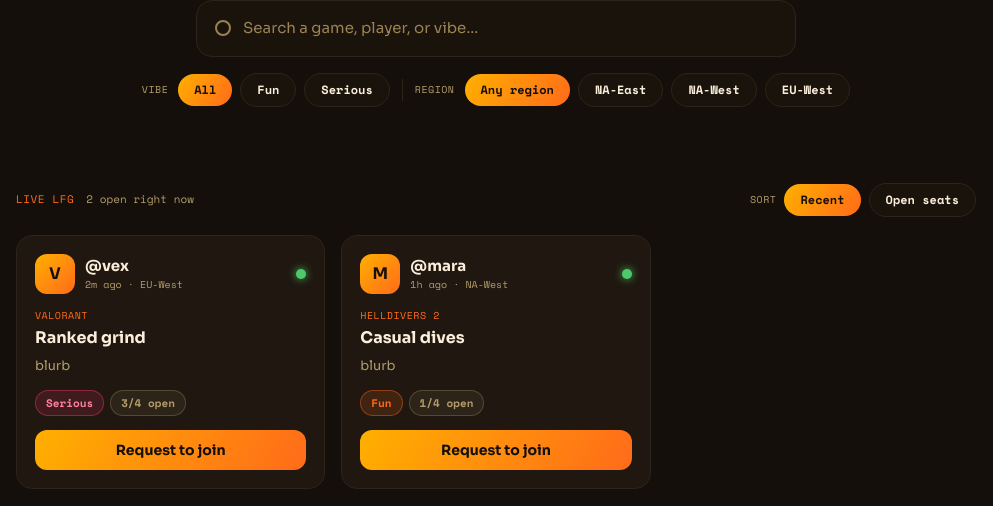
Test: LiveFeed — search › shows the empty state when nothing matches
The image size is (993, 506).
Type "nonexistent-xyz" into the field labelled "Search a game, player, or vibe". click: [510, 28]
box: [243,9,777,48]
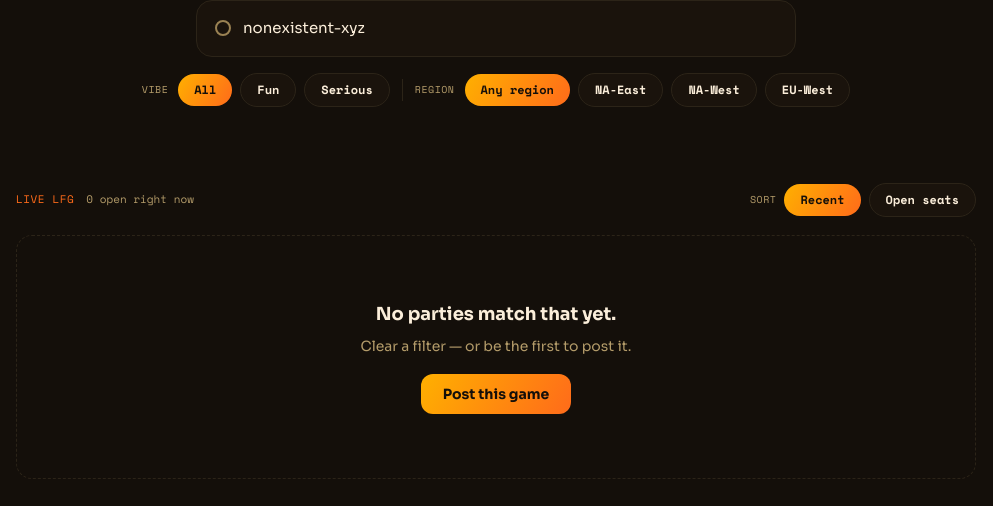
Result: the text "No parties match that yet." is shown at [376,302,616,324]
